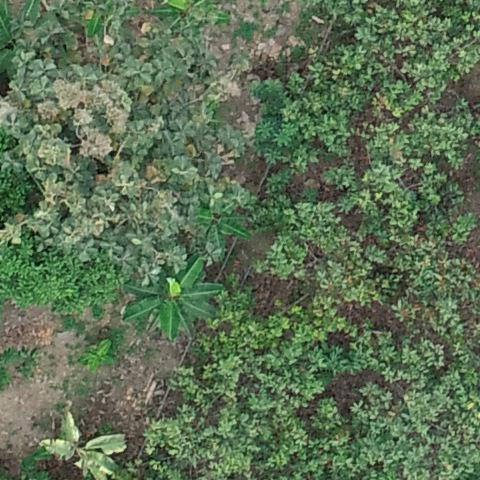Banana-plant: (117, 253, 217, 334), (38, 409, 134, 480), (187, 187, 254, 265), (149, 0, 231, 38), (74, 2, 128, 45), (77, 332, 119, 378)
